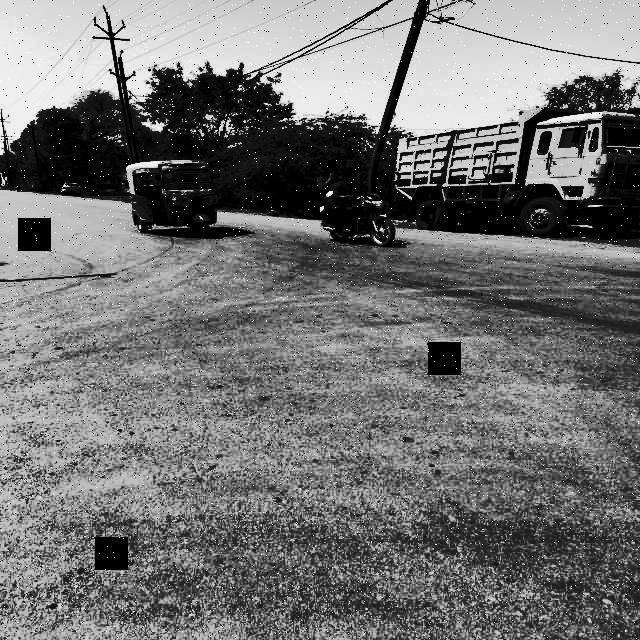Auto-Rickshaw: (113, 151, 223, 240)
